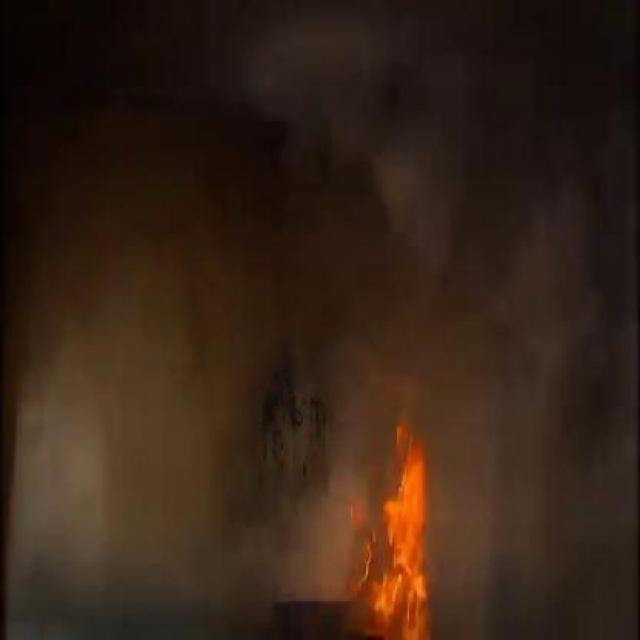fire: (353, 421, 431, 640)
smoke: (293, 46, 452, 266), (495, 212, 577, 548)
